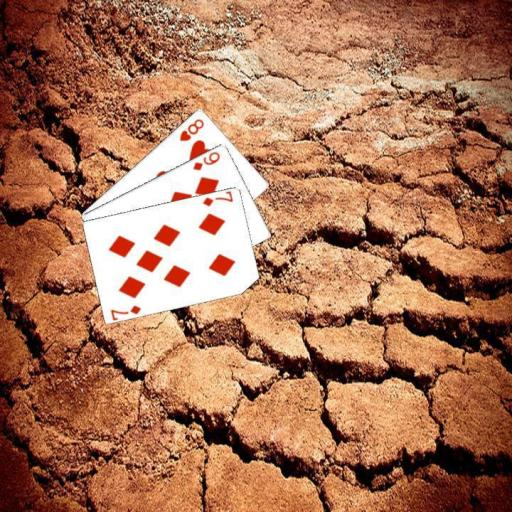card-corner: (176, 115, 206, 142), (190, 148, 222, 172), (199, 189, 235, 208), (107, 302, 143, 320)
